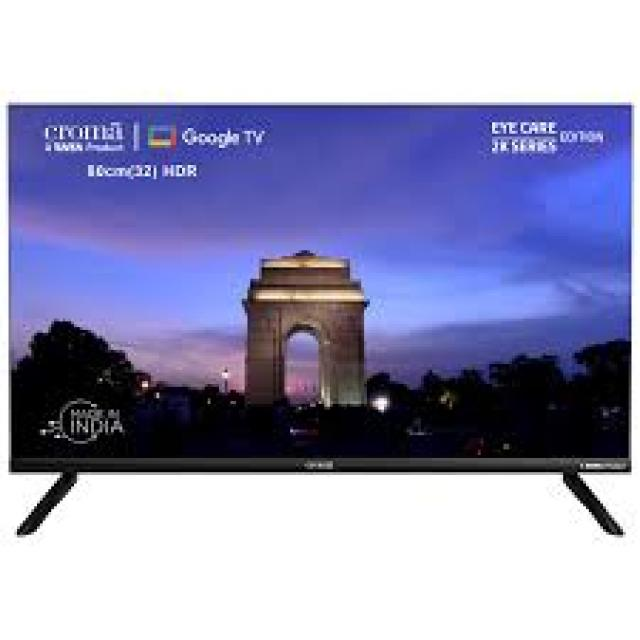tv: (1, 98, 634, 485)
